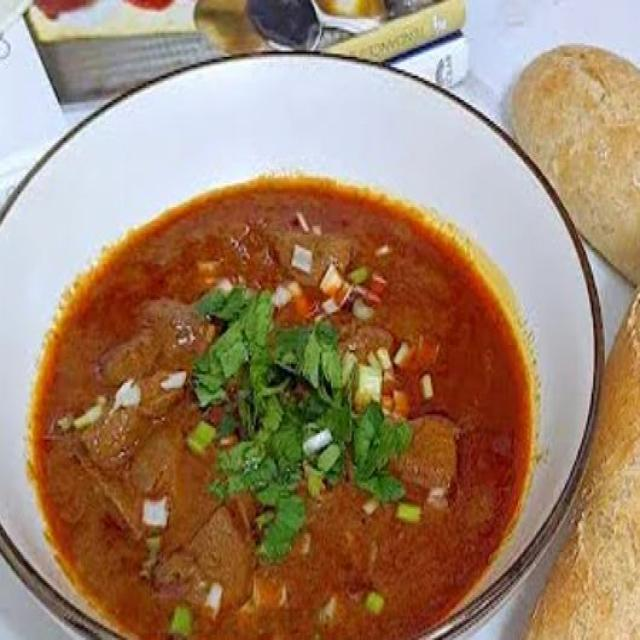kamouniya: (37, 75, 595, 635)
